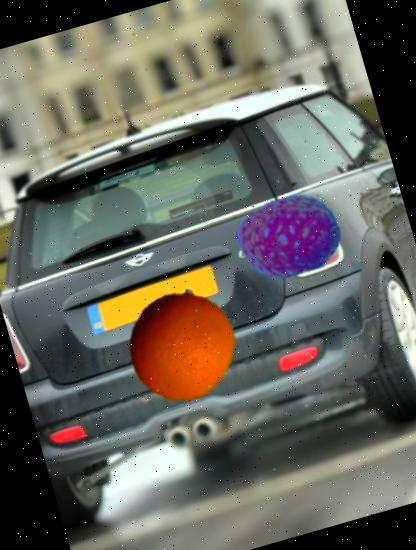Orange: (112, 274, 252, 414)
Raspberry: (224, 170, 354, 300)
